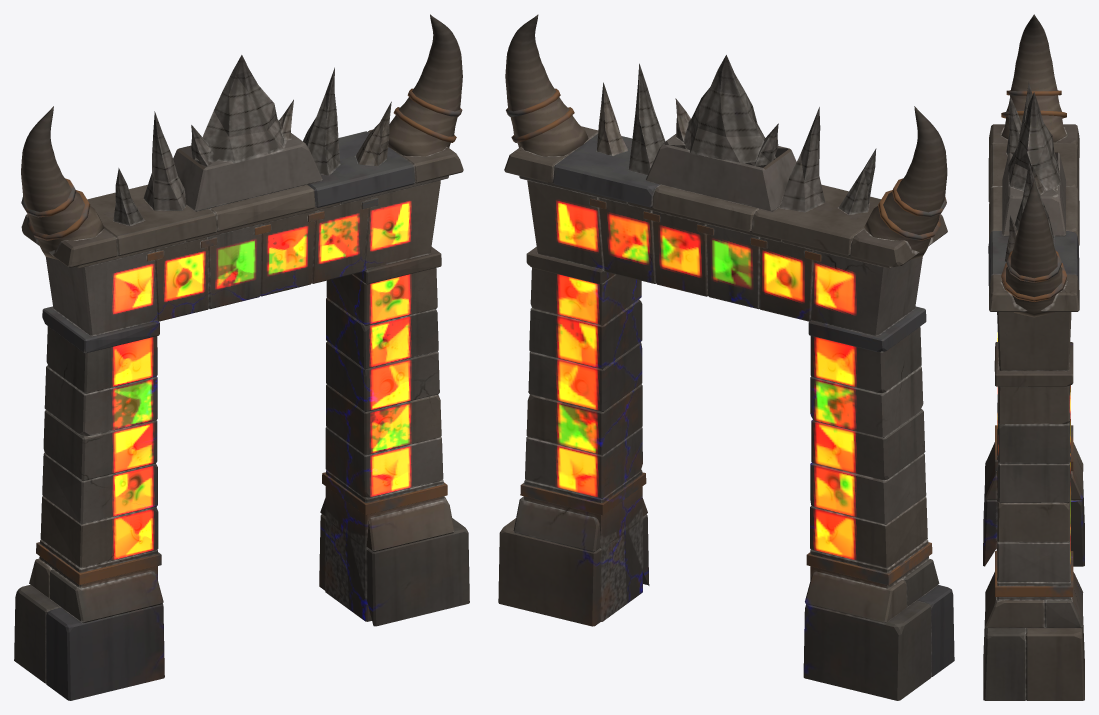
The model's file is spawn_portal.glb.
The picture shows the model from 3 angles, left to right: view 1: azimuth 30°, elevation 25°; view 2: azimuth 150°, elevation 25°; view 3: azimuth 270°, elevation 25°; orthographic projection. The views are drawn at different scales.
Visible parts, largest first — view 1: SpawnPortal; view 2: SpawnPortal; view 3: SpawnPortal.
Boxes of the visible parts, x1=… form: SpawnPortal: x1=14, y1=14, x2=469, y2=700; SpawnPortal: x1=498, y1=14, x2=954, y2=700; SpawnPortal: x1=983, y1=14, x2=1084, y2=700.
Size of the model in its own units: 16.93 by 21.45 by 3.8.
1 material, 1 textured.
